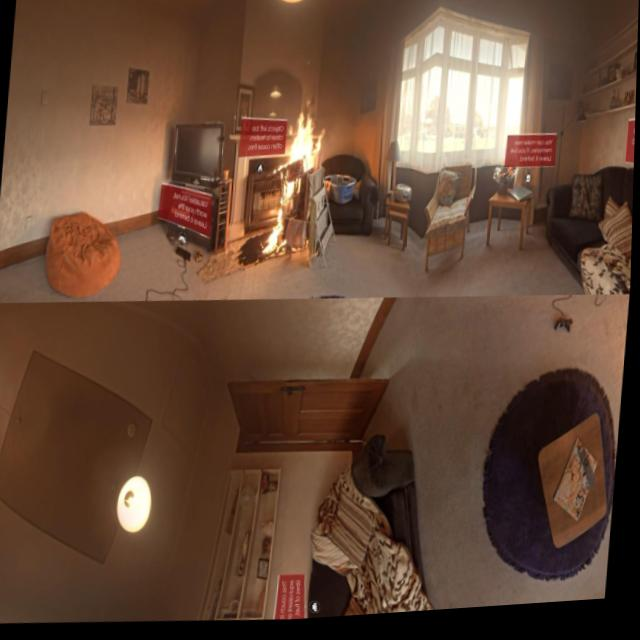fire: (263, 97, 328, 260)
